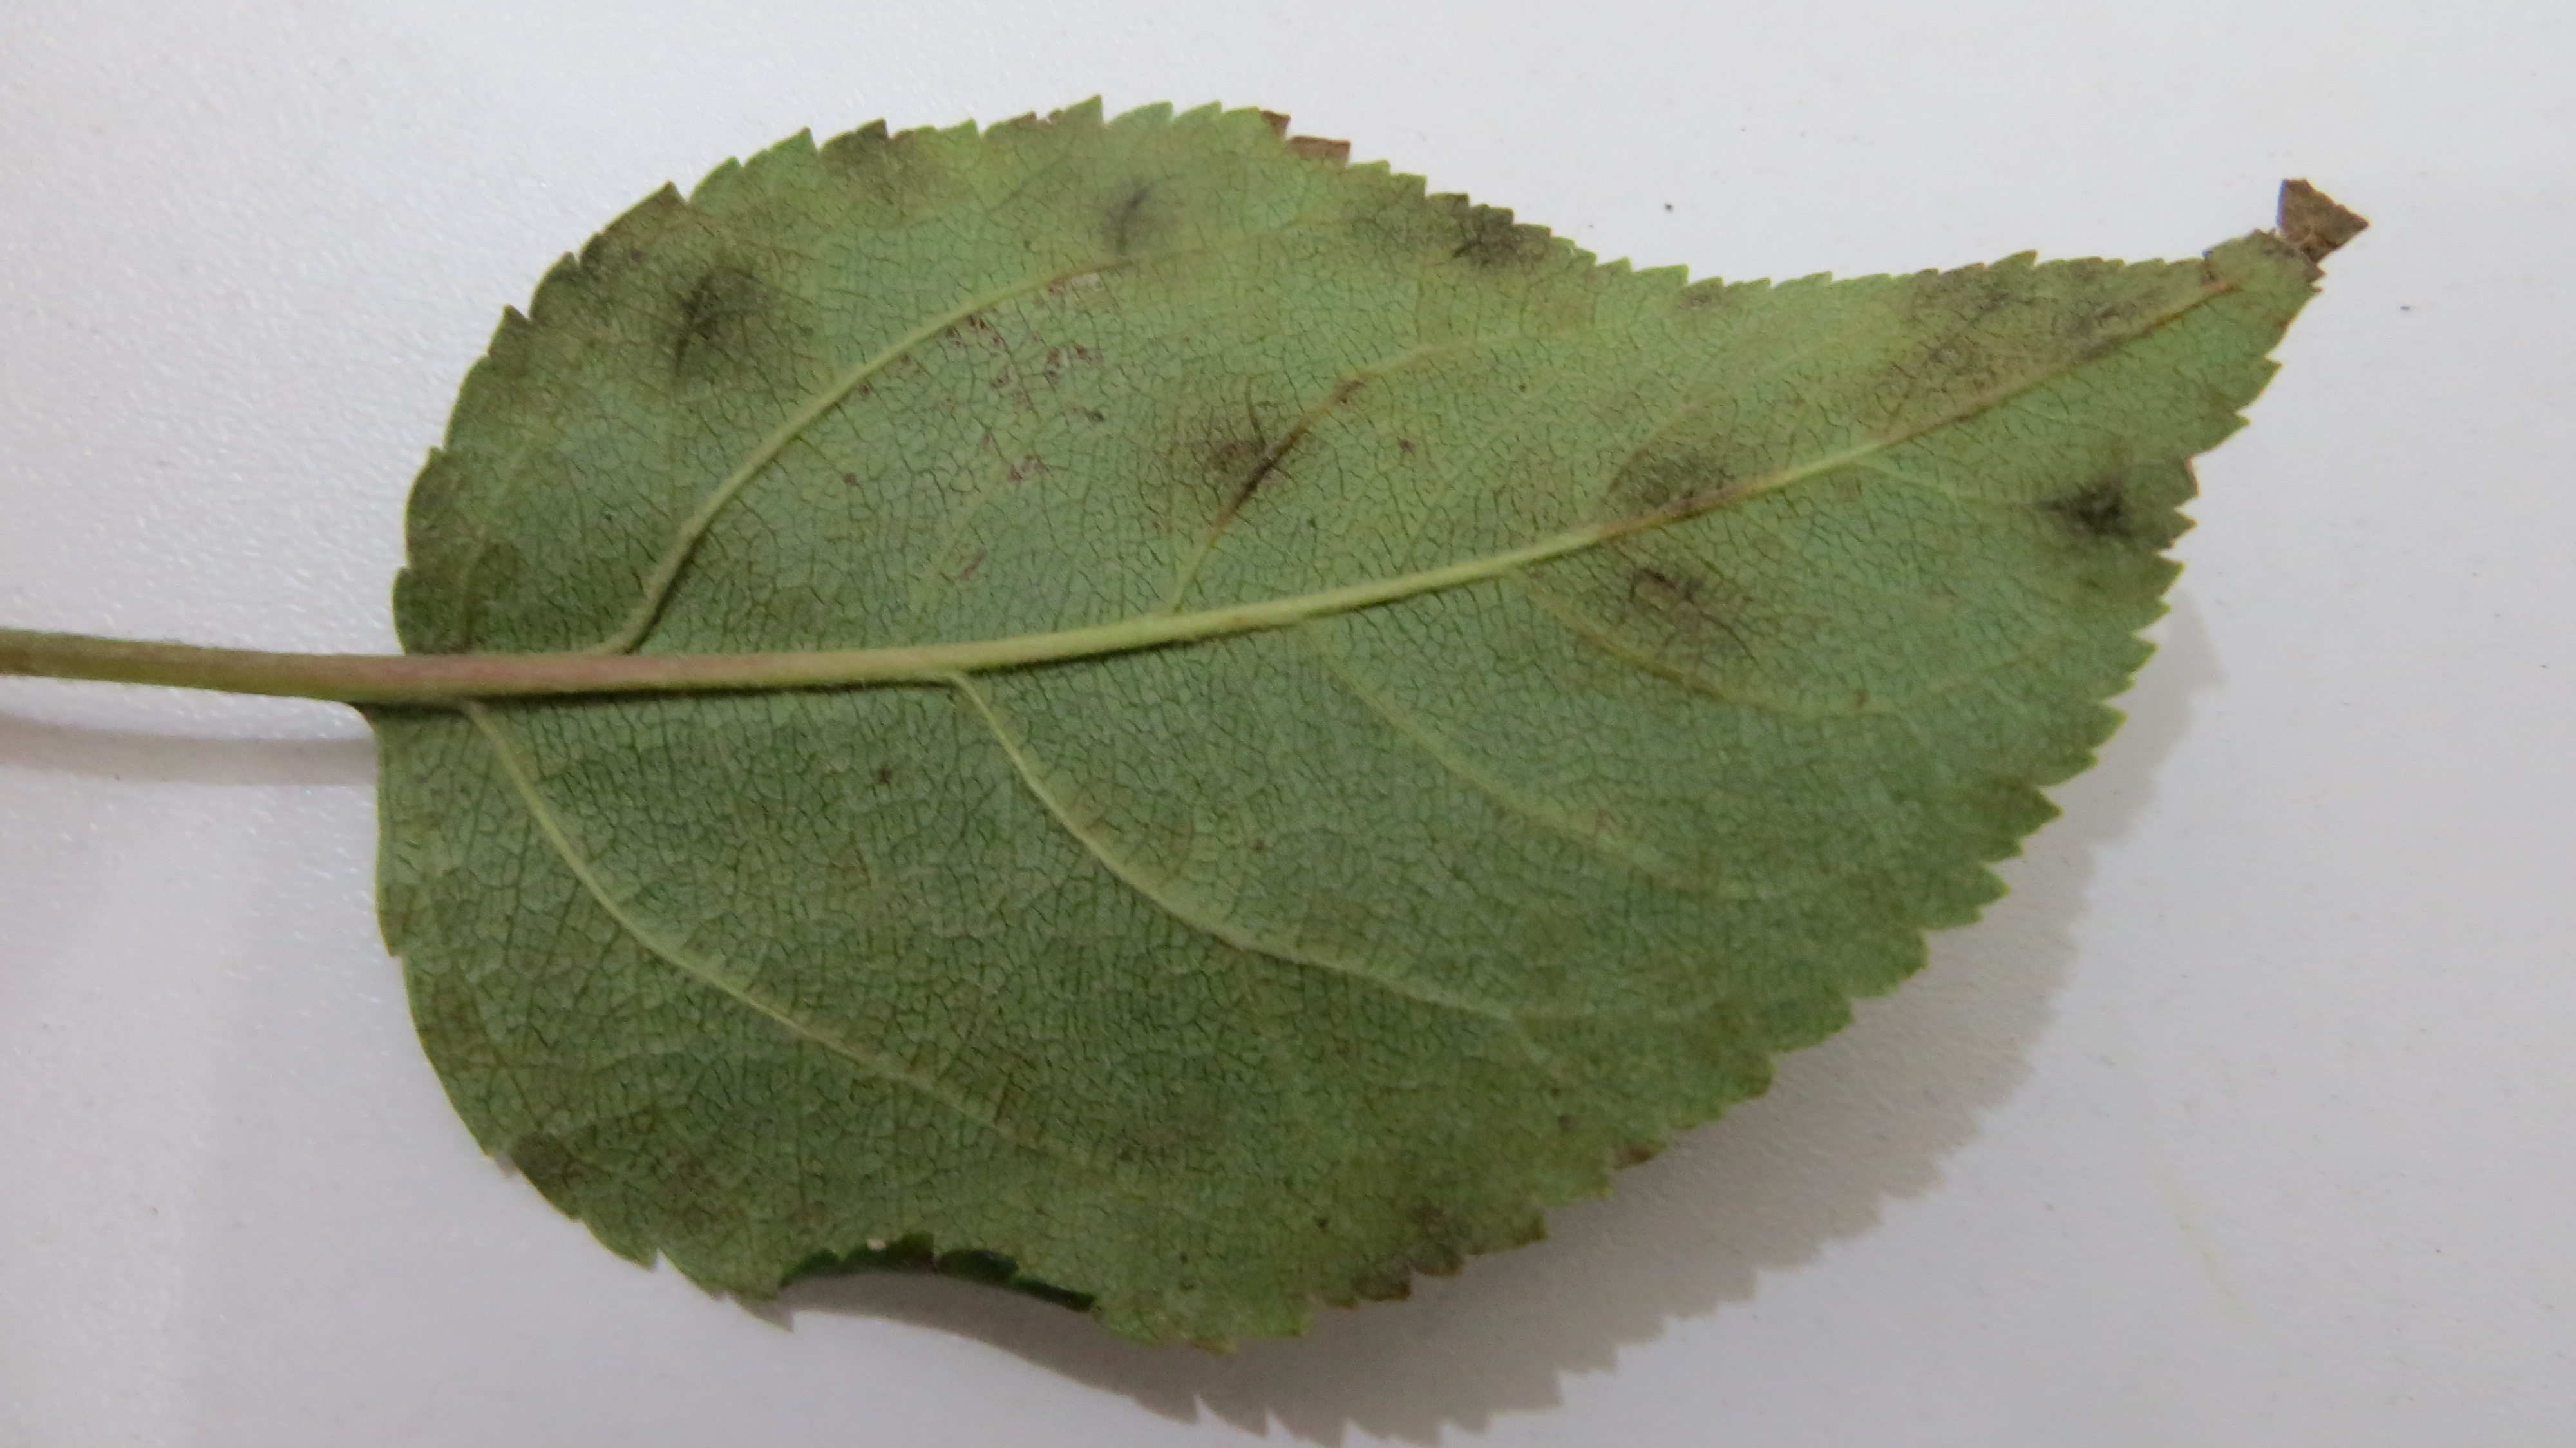sarna: (1875, 251, 2155, 435), (630, 221, 823, 400), (1136, 359, 1330, 536), (1318, 1147, 1507, 1306), (1571, 538, 1739, 667), (2008, 439, 2151, 579), (1594, 412, 1737, 533), (1428, 189, 1573, 301), (1074, 152, 1192, 280), (819, 113, 947, 220)
